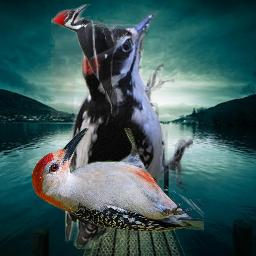Woodpecker: (65, 10, 193, 249), (32, 128, 204, 232), (51, 4, 128, 117)
